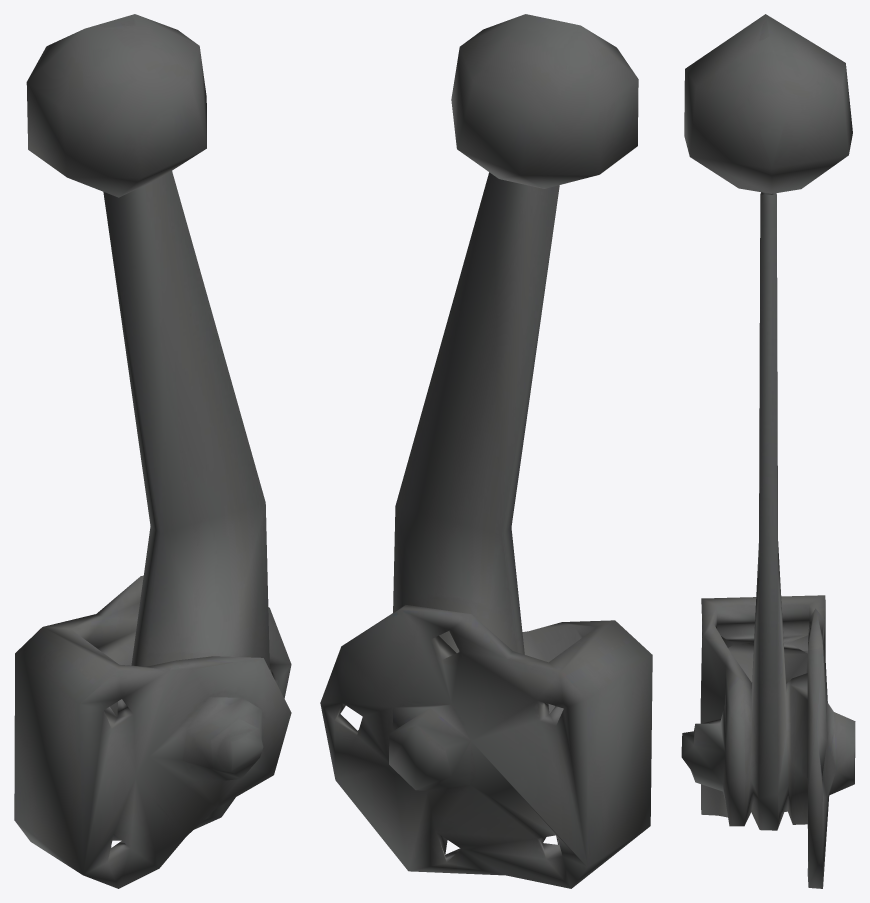
File: mixture.glb
The picture shows the model from 3 angles, left to right: view 1: azimuth 30°, elevation 25°; view 2: azimuth 150°, elevation 25°; view 3: azimuth 270°, elevation 25°; orthographic projection. The views are drawn at different scales.
Visible parts, largest first — view 1: tripo_node_0a3e19f2-8cfe-498d-8283-47abc; view 2: tripo_node_0a3e19f2-8cfe-498d-8283-47abc; view 3: tripo_node_0a3e19f2-8cfe-498d-8283-47abc.
Part boxes in pixels (x1,y1,x2,y2): tripo_node_0a3e19f2-8cfe-498d-8283-47abc: [14, 14, 291, 888]; tripo_node_0a3e19f2-8cfe-498d-8283-47abc: [320, 14, 652, 888]; tripo_node_0a3e19f2-8cfe-498d-8283-47abc: [681, 14, 855, 888].
Bounding box in the file's own units: 0.3323 × 1.01 × 0.1959.
Materials: 1 (1 with a texture image).
